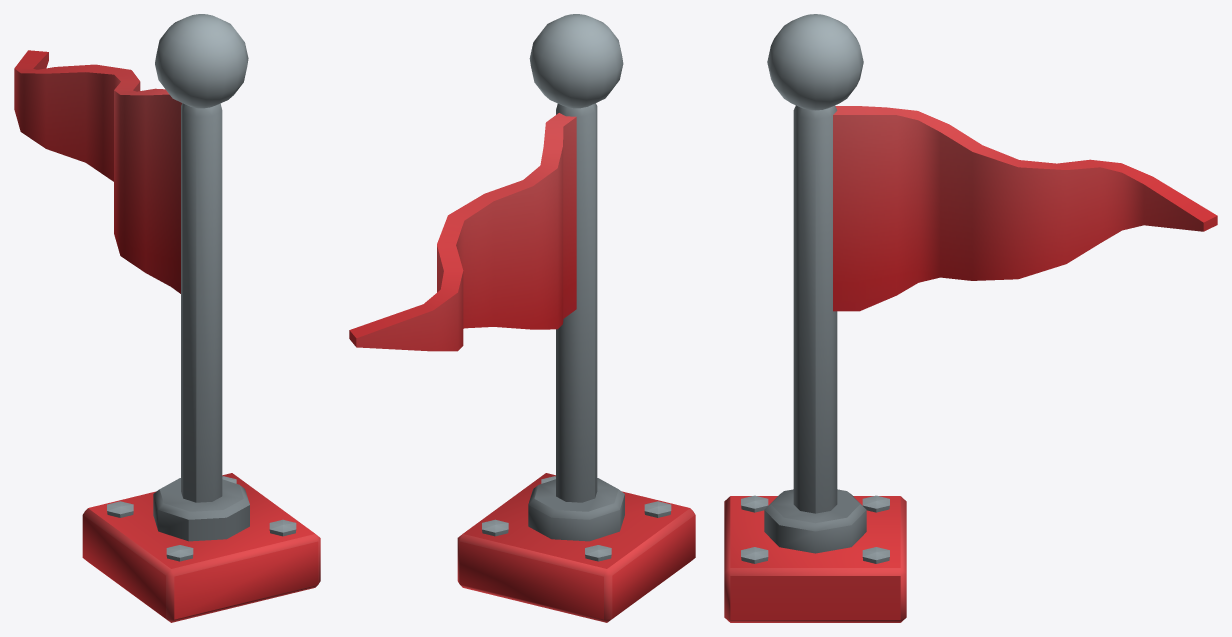
File: drapeau-rouge.glb
3 renders of one model, left to right at view 1: azimuth 30°, elevation 25°; view 2: azimuth 150°, elevation 25°; view 3: azimuth 270°, elevation 25°, orthographic. The views are drawn at different scales.
Parts seen in each view (by area): view 1: flag_A_red; view 2: flag_A_red; view 3: flag_A_red.
Boxes of the visible parts, x1,y1,x2,y2 form: flag_A_red: [14, 14, 320, 622]; flag_A_red: [349, 14, 695, 622]; flag_A_red: [724, 14, 1217, 622].
Size of the model in its own units: 0.6 by 2.06 by 1.62.
1 material, 1 textured.
